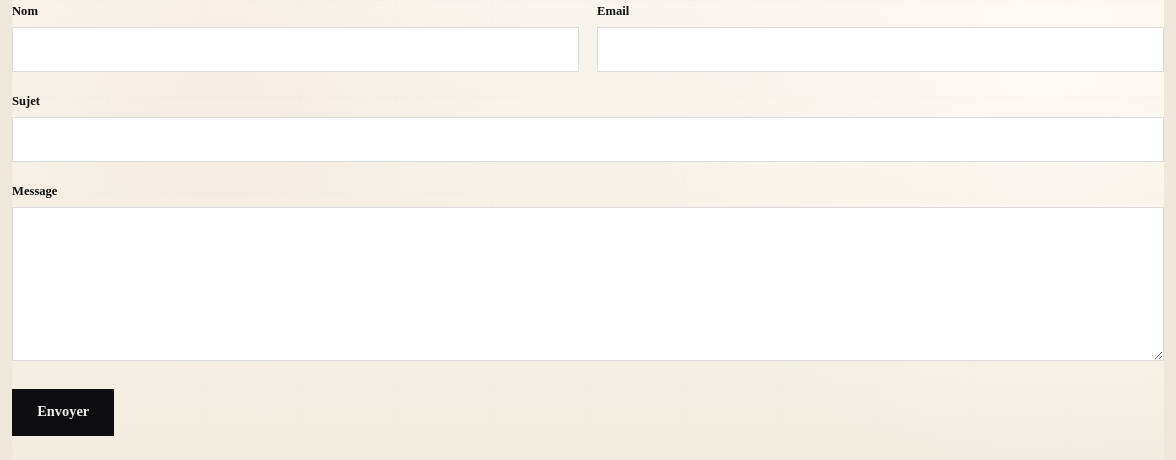
Scenario: ContactForm › preserves fields after a network error
Type "Rayan" into the field labelled "Nom" at point(296, 50), box x1=12 y1=27 x2=579 y2=72
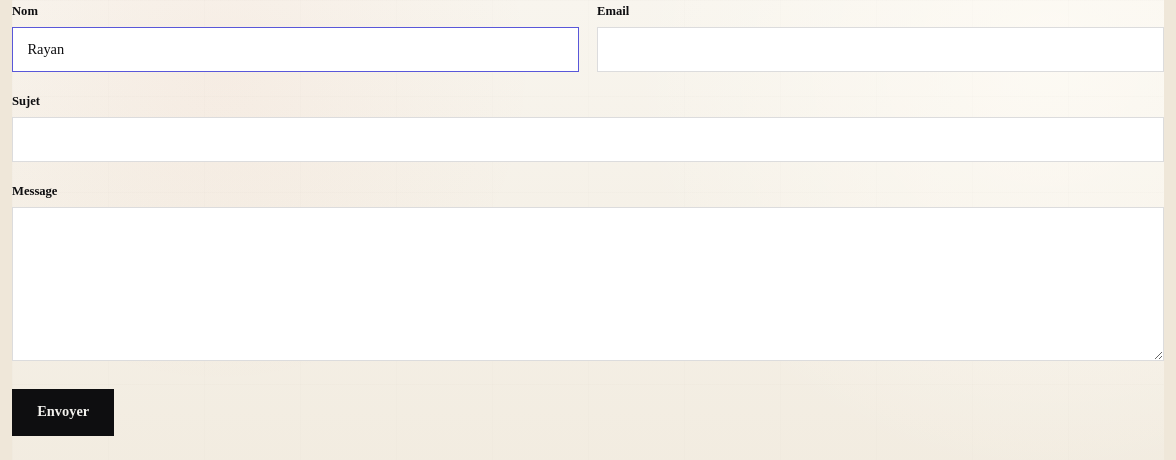
Type "rayan@example.com" into the field labelled "Email" at point(880, 50), box x1=597 y1=27 x2=1164 y2=72
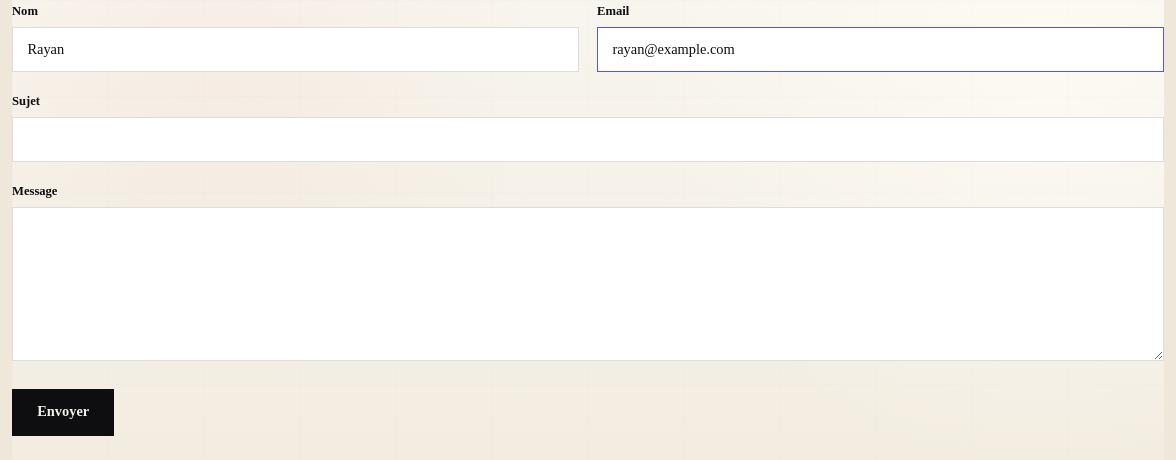
Type "Une question" into the field labelled "Sujet" at point(588, 140), box x1=12 y1=117 x2=1164 y2=162
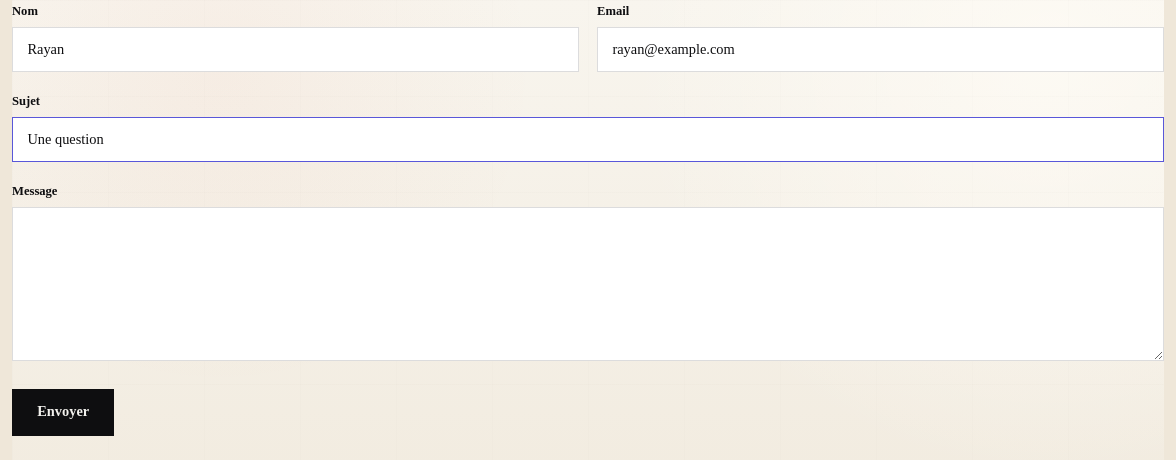
Type "Bonjour, message de test." into the text box labelled "Message" at point(588, 284), box x1=12 y1=207 x2=1164 y2=361
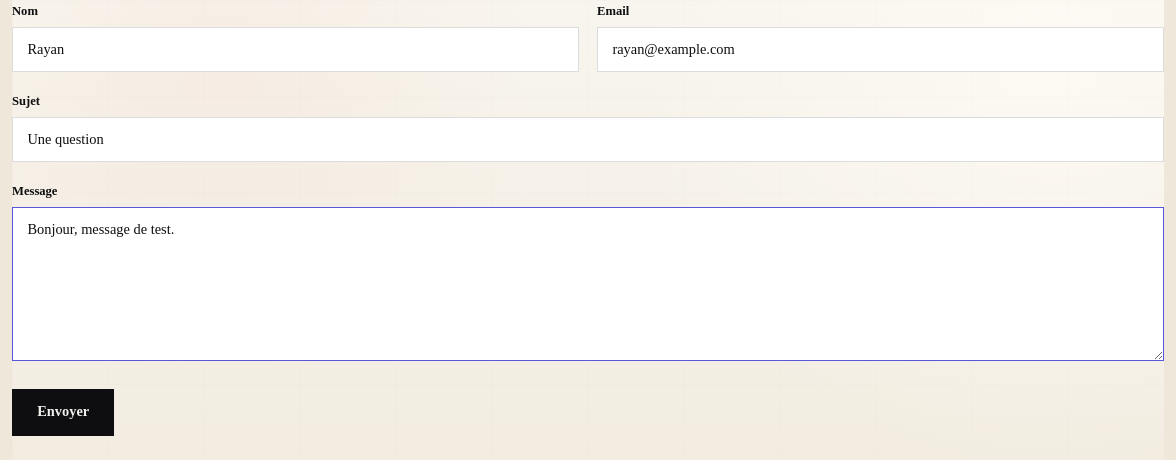
Click the button "Envoyer" at point(63, 412), box x1=12 y1=389 x2=114 y2=436
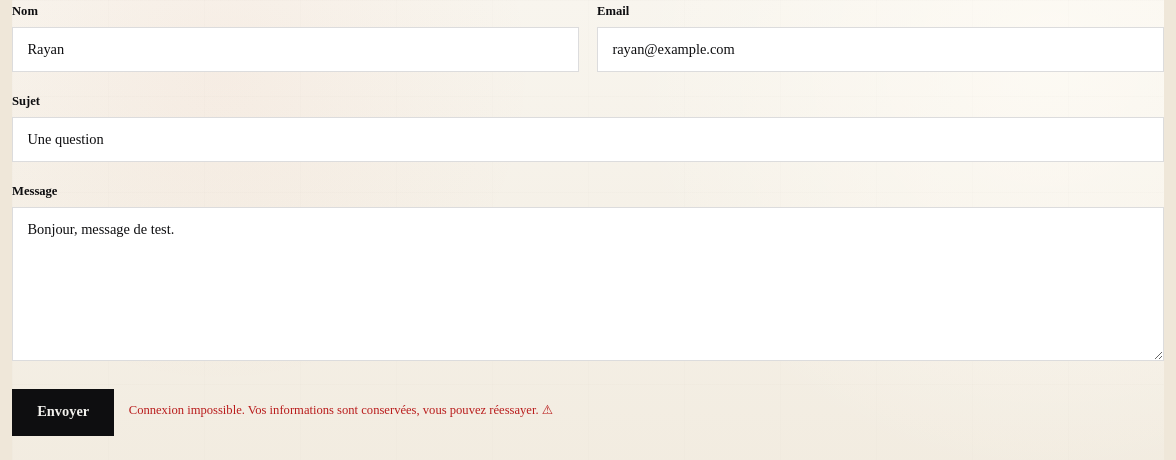
Now the message shows "réessayer", box x1=129 y1=403 x2=538 y2=417
